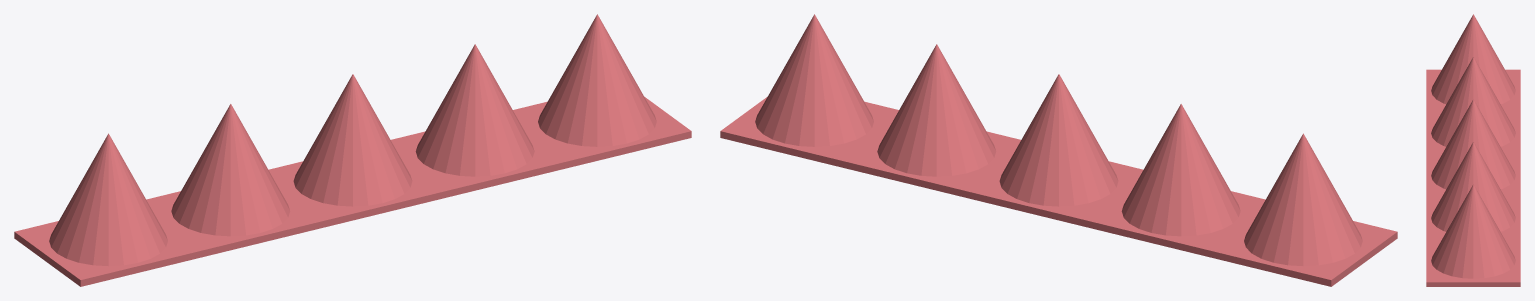
File: cone_obstacle.fbx
The picture shows the model from 3 angles, left to right: view 1: azimuth 30°, elevation 25°; view 2: azimuth 150°, elevation 25°; view 3: azimuth 270°, elevation 25°; orthographic projection. The views are drawn at different scales.
Visible parts, largest first — view 1: obstacle1; view 2: obstacle1; view 3: obstacle1.
Boxes of the visible parts, x1,y1,x2,y2 form: obstacle1: (14,14,691,286); obstacle1: (720,14,1397,286); obstacle1: (1426,14,1520,286).
Bounding box in the file's own units: 248 × 44.42 × 46.56.
